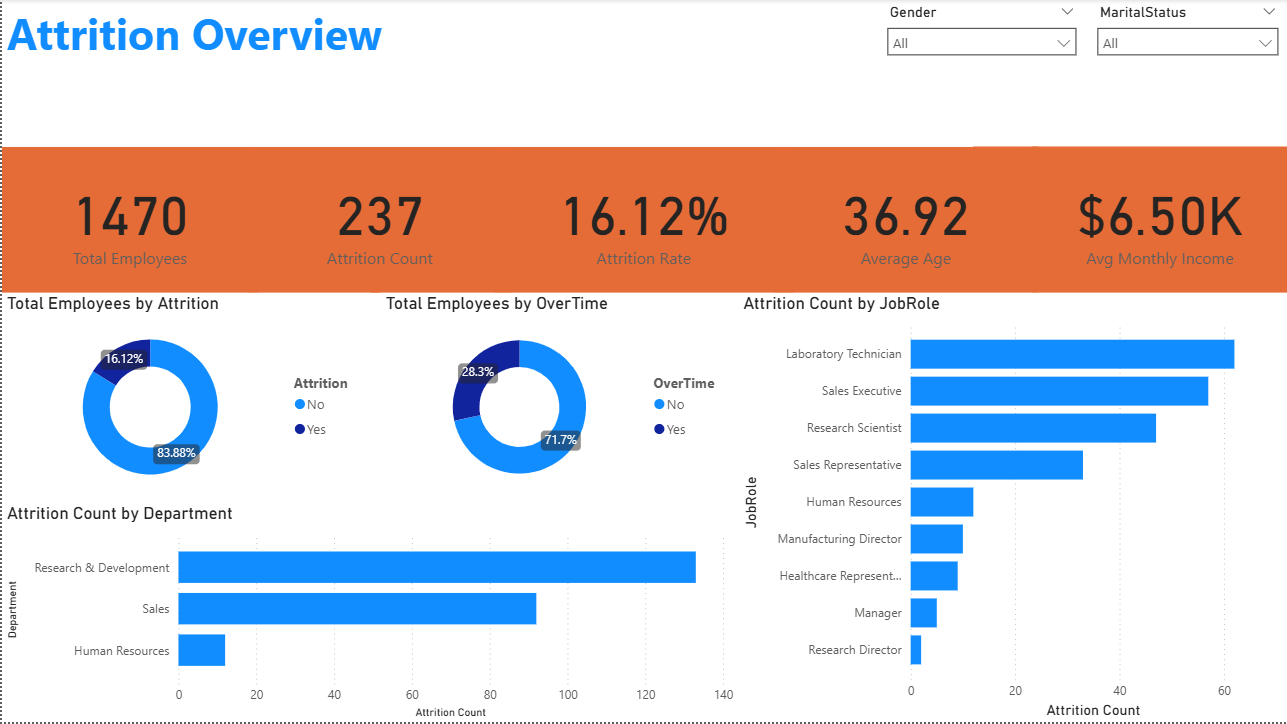

This screenshot's page, from the dashboard's own definition file:
{"tool":"powerbi","page":{"name":"Attrition Overview","canvas":[1280,720],"ordinal":0},"visuals":[{"type":"card","fields":{"Values":["HR-Employee-Attrition.Total Employees"]},"box":[0,146.8,255.2,145.5],"z":0},{"type":"card","fields":{"Values":["HR-Employee-Attrition.Attrition Count"]},"box":[244.3,146.8,264.8,145.5],"z":1000},{"type":"card","fields":{"Values":["HR-Employee-Attrition.Attrition Percentage"]},"box":[489.9,146.8,297.8,145.5],"z":2000},{"type":"card","fields":{"Values":["HR-Employee-Attrition.Average Age"]},"box":[768.4,146.8,262.1,145.5],"z":3000},{"type":"card","fields":{"Values":["HR-Employee-Attrition.Avg Monthly Income"]},"box":[1025,146.8,255.2,145.5],"z":4000},{"type":"donutChart","fields":{"Y":["HR-Employee-Attrition.Total Employees"],"Category":["HR-Employee-Attrition.Attrition"]},"box":[0,292.3,366.4,208.6],"z":5000},{"type":"barChart","fields":{"Category":["HR-Employee-Attrition.Department"],"Y":["HR-Employee-Attrition.Attrition Count"]},"box":[0,500.9,732.8,219.6],"z":6000},{"type":"barChart","fields":{"Category":["HR-Employee-Attrition.JobRole"],"Y":["HR-Employee-Attrition.Attrition Count"]},"box":[732.8,292.3,547.5,428.1],"z":7000},{"type":"donutChart","fields":{"Y":["HR-Employee-Attrition.Total Employees"],"Category":["HR-Employee-Attrition.OverTime"]},"box":[377.4,292.3,355.4,208.6],"z":8000},{"type":"textbox","box":[0,0,966,146.8],"z":9000},{"type":"slicer","fields":{"Values":["HR-Employee-Attrition.Gender"]},"box":[871.4,0,208.6,90.6],"z":10000},{"type":"slicer","fields":{"Values":["HR-Employee-Attrition.MaritalStatus"]},"box":[1079.9,0,200.3,90.6],"z":11000}]}

Visuals, with their boxes in screenshot pixels (x1, y1, x2, y2), scaled from the page's 1280x720 canvas onto the 1287x724 screenshot:
card - HR-Employee-Attrition.Total Employees: 0:148:257:294
card - HR-Employee-Attrition.Attrition Count: 246:148:512:294
card - HR-Employee-Attrition.Attrition Percentage: 493:148:792:294
card - HR-Employee-Attrition.Average Age: 773:148:1036:294
card - HR-Employee-Attrition.Avg Monthly Income: 1031:148:1286:294
donutChart - HR-Employee-Attrition.Total Employees x HR-Employee-Attrition.Attrition: 0:294:368:504
barChart - HR-Employee-Attrition.Department x HR-Employee-Attrition.Attrition Count: 0:504:737:723
barChart - HR-Employee-Attrition.JobRole x HR-Employee-Attrition.Attrition Count: 737:294:1286:723
donutChart - HR-Employee-Attrition.Total Employees x HR-Employee-Attrition.OverTime: 379:294:737:504
textbox: 0:0:971:148
slicer - HR-Employee-Attrition.Gender: 876:0:1086:91
slicer - HR-Employee-Attrition.MaritalStatus: 1086:0:1286:91
